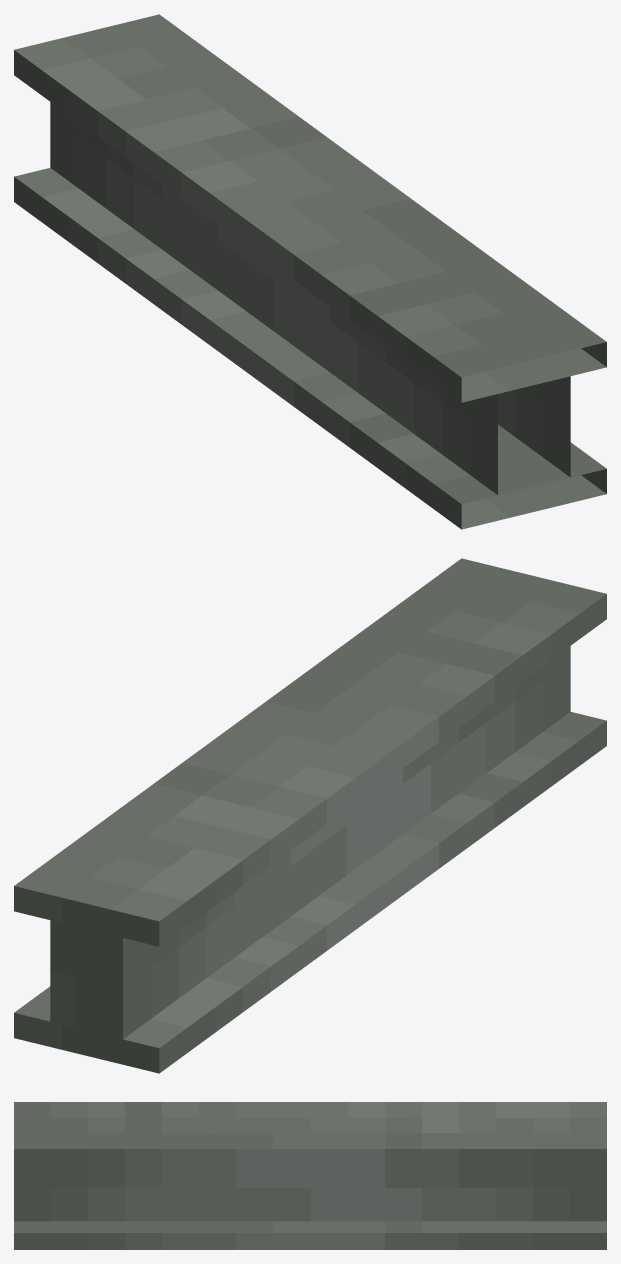
The model's file is power_line_bracket_on_default2.obj.
3 renders of one model, top to bottom at view 1: azimuth 30°, elevation 25°; view 2: azimuth 150°, elevation 25°; view 3: azimuth 270°, elevation 25°, orthographic. The views are drawn at different scales.
Visible parts, largest first — view 1: b1, b3, b2; view 2: b1, b3, b2; view 3: b1, b3, b2.
Part boxes in pixels (bbox=[...]): b1: bbox=[14, 14, 606, 402]; b3: bbox=[50, 102, 570, 494]; b2: bbox=[14, 168, 606, 529]; b1: bbox=[14, 558, 606, 946]; b3: bbox=[50, 646, 570, 1039]; b2: bbox=[14, 712, 606, 1073]; b1: bbox=[14, 1102, 606, 1165]; b3: bbox=[14, 1166, 606, 1221]; b2: bbox=[14, 1221, 606, 1249].
Bounding box in the file's own units: 0.1875 × 0.1875 × 1.
